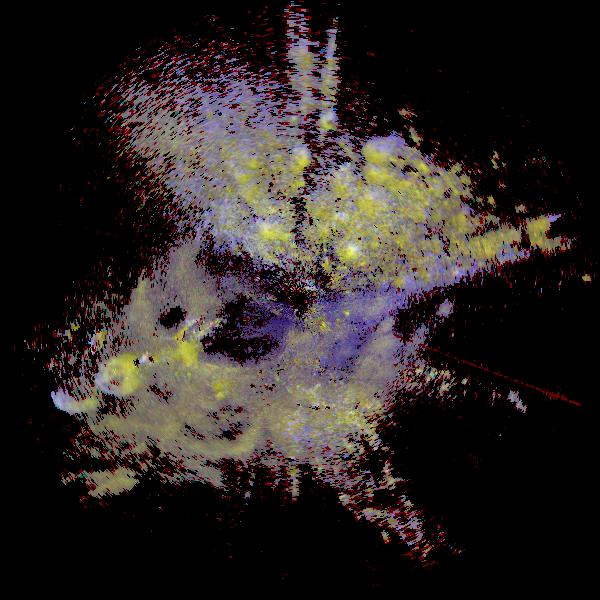roost: (50, 368, 101, 419), (153, 339, 201, 387), (186, 370, 231, 415), (99, 357, 141, 399), (364, 137, 394, 167)
